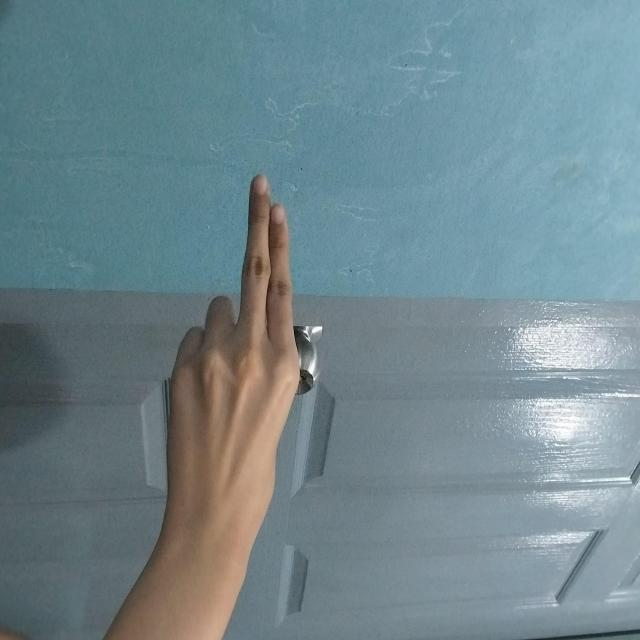H: (168, 341, 506, 474)
